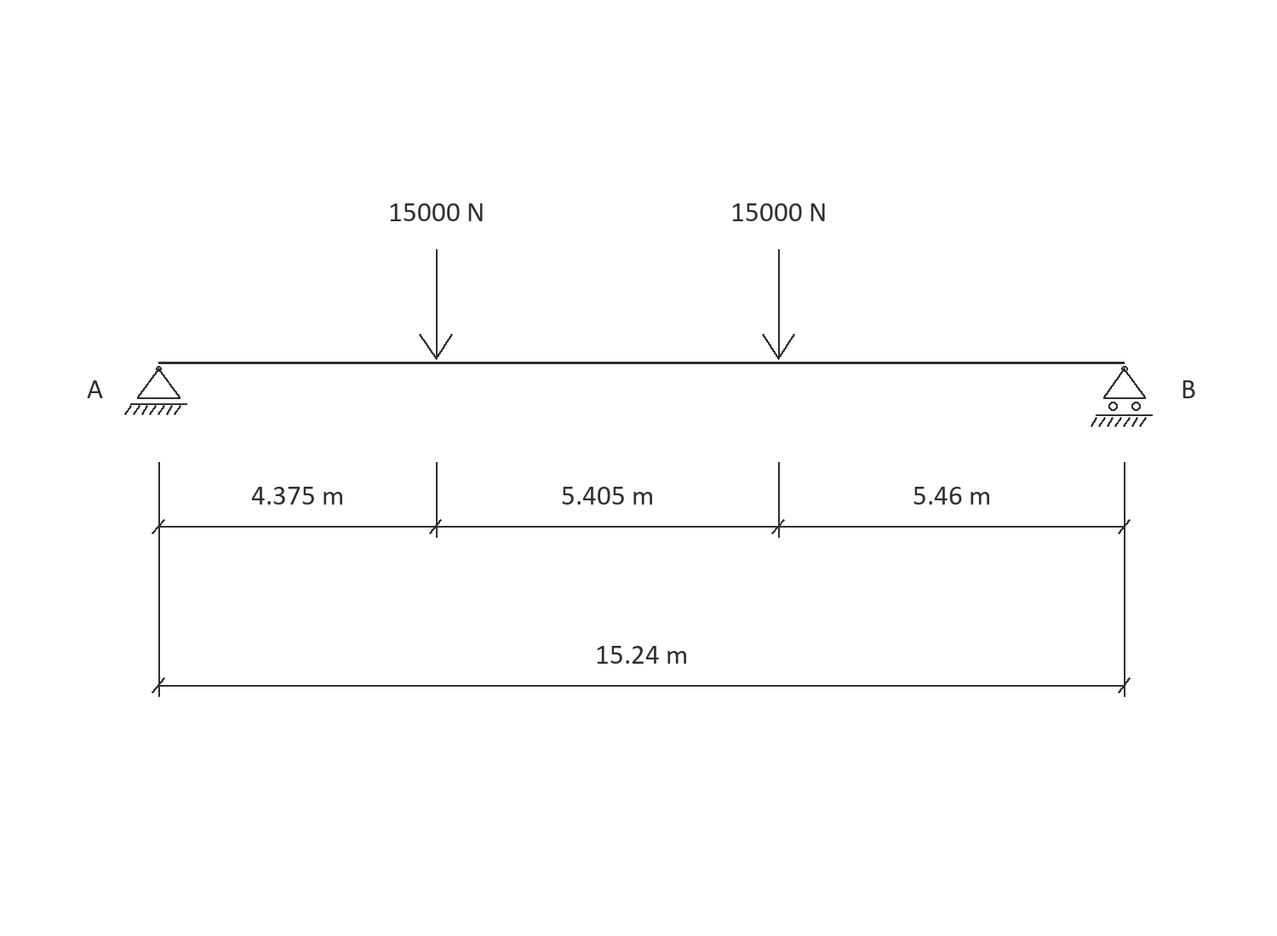pin_support: (124, 366, 187, 415)
point_load: (419, 249, 453, 360), (762, 249, 795, 360)
roller_support: (1091, 366, 1153, 427)
